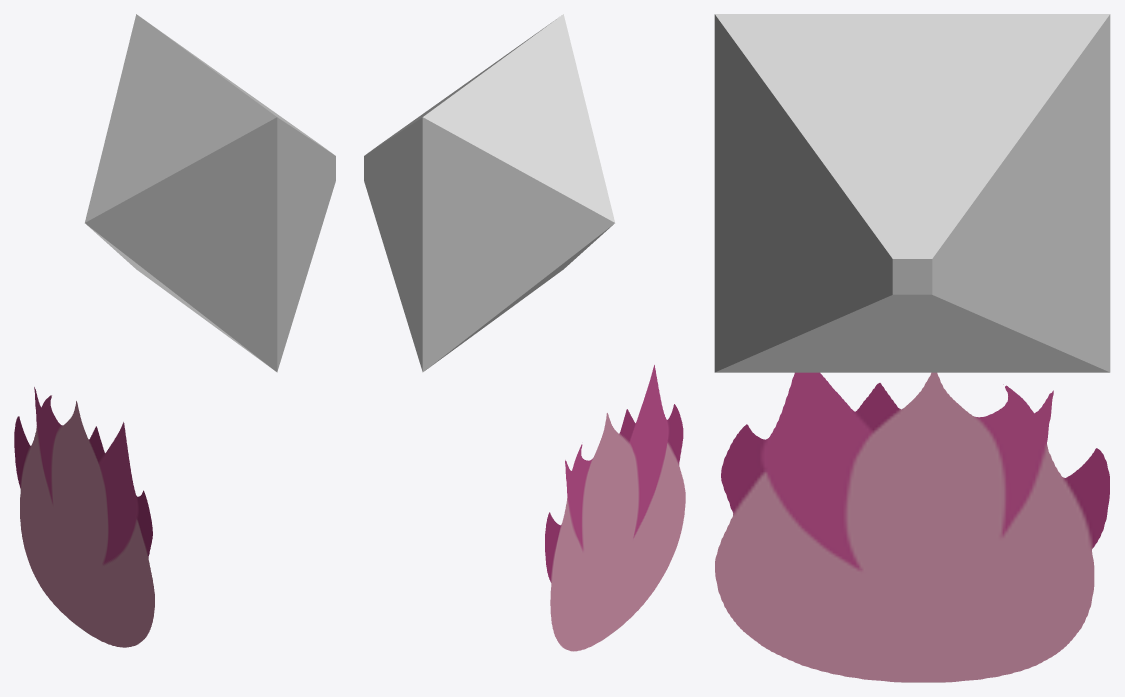
Rendered from saalily.dae.
3 views of the same model, side by side, from view 1: azimuth 30°, elevation 25°; view 2: azimuth 150°, elevation 25°; view 3: azimuth 270°, elevation 25° (orthographic). The views are drawn at different scales.
Parts seen in each view (by area): view 1: PadEnd, Lily; view 2: PadEnd, Lily; view 3: PadEnd, Lily.
Part boxes in pixels (bbox=[...]): PadEnd: bbox=[85, 14, 335, 372]; Lily: bbox=[14, 387, 154, 647]; PadEnd: bbox=[364, 14, 614, 372]; Lily: bbox=[545, 365, 685, 651]; PadEnd: bbox=[714, 14, 1110, 372]; Lily: bbox=[715, 372, 1109, 682].
Size of what is drawn, in the model's own units: 4 by 8.4 by 4.
